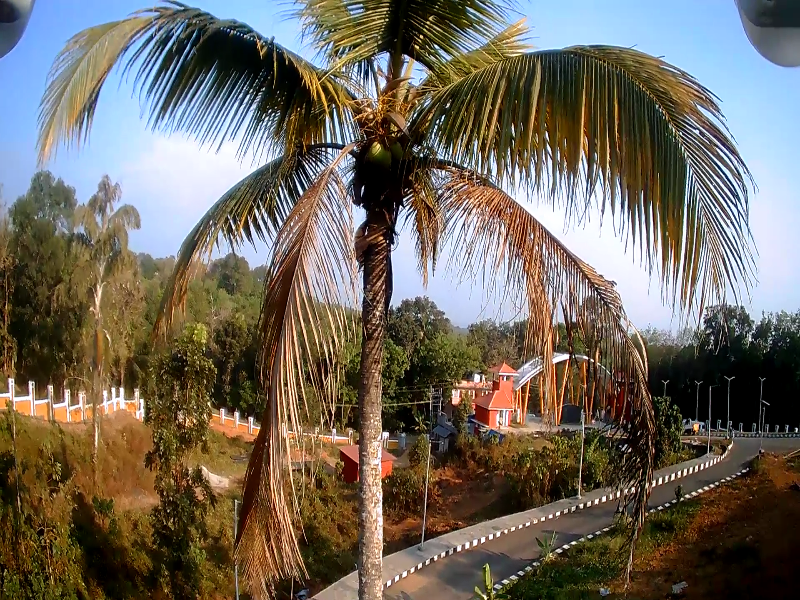coconut: (364, 140, 388, 165)
